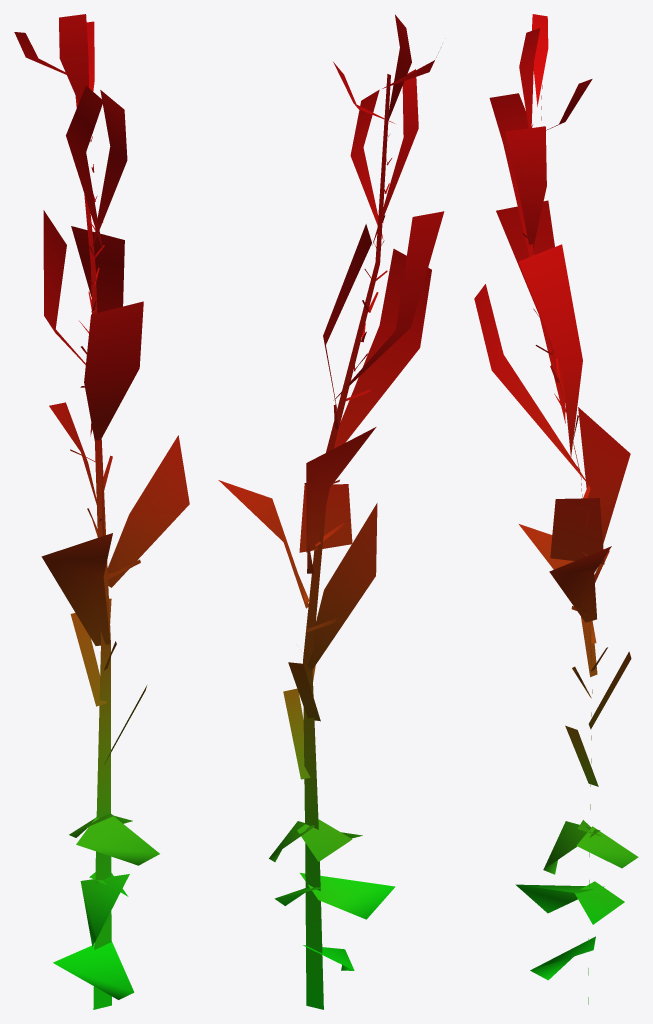
Rendered from Var3_LOD2.fbx.
3 views of the same model, side by side, from view 1: azimuth 30°, elevation 25°; view 2: azimuth 150°, elevation 25°; view 3: azimuth 270°, elevation 25° (orthographic). The views are drawn at different scales.
Visible parts, largest first — view 1: _492d_Var3_LOD2; view 2: _492d_Var3_LOD2; view 3: _492d_Var3_LOD2.
Part boxes in pixels (x1,y1,x2,y2): _492d_Var3_LOD2: [14, 14, 189, 1009]; _492d_Var3_LOD2: [218, 14, 444, 1009]; _492d_Var3_LOD2: [474, 14, 638, 1004].
Size of the model in its own units: 27.36 by 135 by 21.21.
